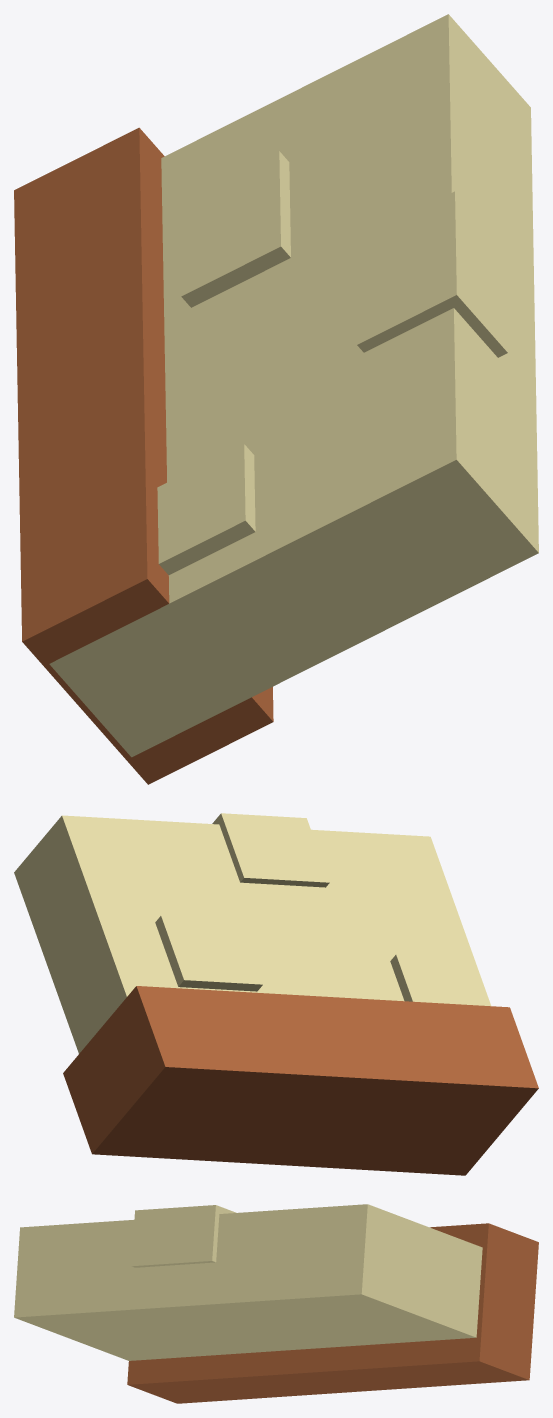
The model's file is wall_broken_001.fbx.
3 renders of one model, top to bottom at view 1: azimuth 30°, elevation 25°; view 2: azimuth 150°, elevation 25°; view 3: azimuth 270°, elevation 25°, orthographic. The views are drawn at different scales.
Parts seen in each view (by area): view 1: wall_broken.001; view 2: wall_broken.001; view 3: wall_broken.001.
Part boxes in pixels (left/top/right/bottom): wall_broken.001: left=14, top=14, right=538, bottom=784; wall_broken.001: left=14, top=813, right=538, bottom=1175; wall_broken.001: left=14, top=1204, right=538, bottom=1403.
Size of the model in its own units: 200 by 161 by 227.
